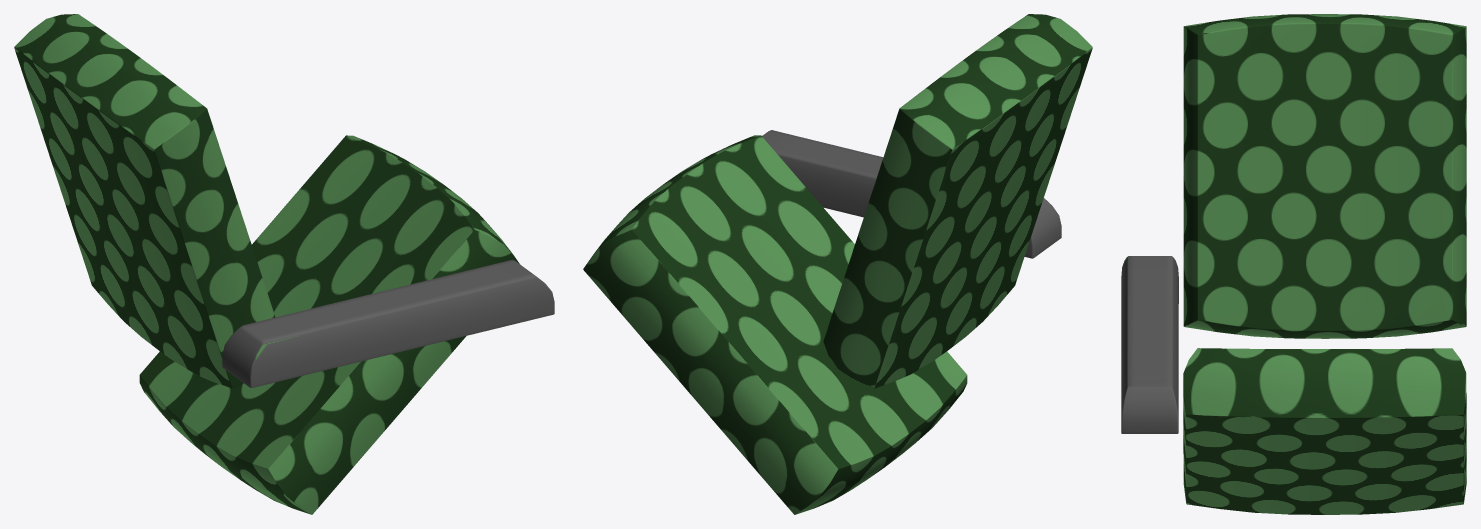
The model's file is m_theater_chair_lod1.fbx.
3 renders of one model, left to right at view 1: azimuth 30°, elevation 25°; view 2: azimuth 150°, elevation 25°; view 3: azimuth 270°, elevation 25°, orthographic.
Parts seen in each view (by area): view 1: m_theater_chair_high_r:SPROJ_Theater_Chairs1:polySurface35; view 2: m_theater_chair_high_r:SPROJ_Theater_Chairs1:polySurface35; view 3: m_theater_chair_high_r:SPROJ_Theater_Chairs1:polySurface35.
Boxes of the visible parts, bbox=[...] form: m_theater_chair_high_r:SPROJ_Theater_Chairs1:polySurface35: bbox=[14, 14, 554, 514]; m_theater_chair_high_r:SPROJ_Theater_Chairs1:polySurface35: bbox=[583, 14, 1092, 514]; m_theater_chair_high_r:SPROJ_Theater_Chairs1:polySurface35: bbox=[1121, 14, 1466, 514].
Size of the model in its own units: 10.12 by 11.08 by 7.83.
